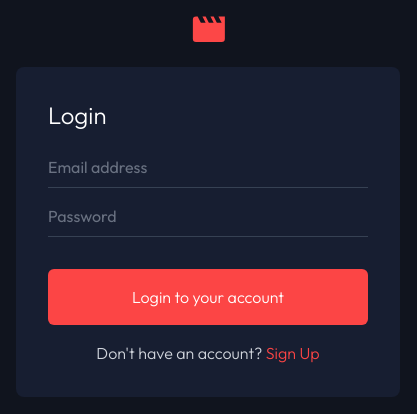
Test case: Login › shows errors when fields are empty
Click the button "Login to your account": [208, 296] box [48,268,368,324]
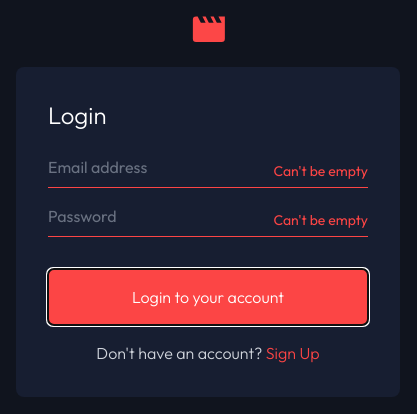
Result: the text "Can't be empty" is shown 2 times at [274,160,368,180]; [274,210,368,230]
